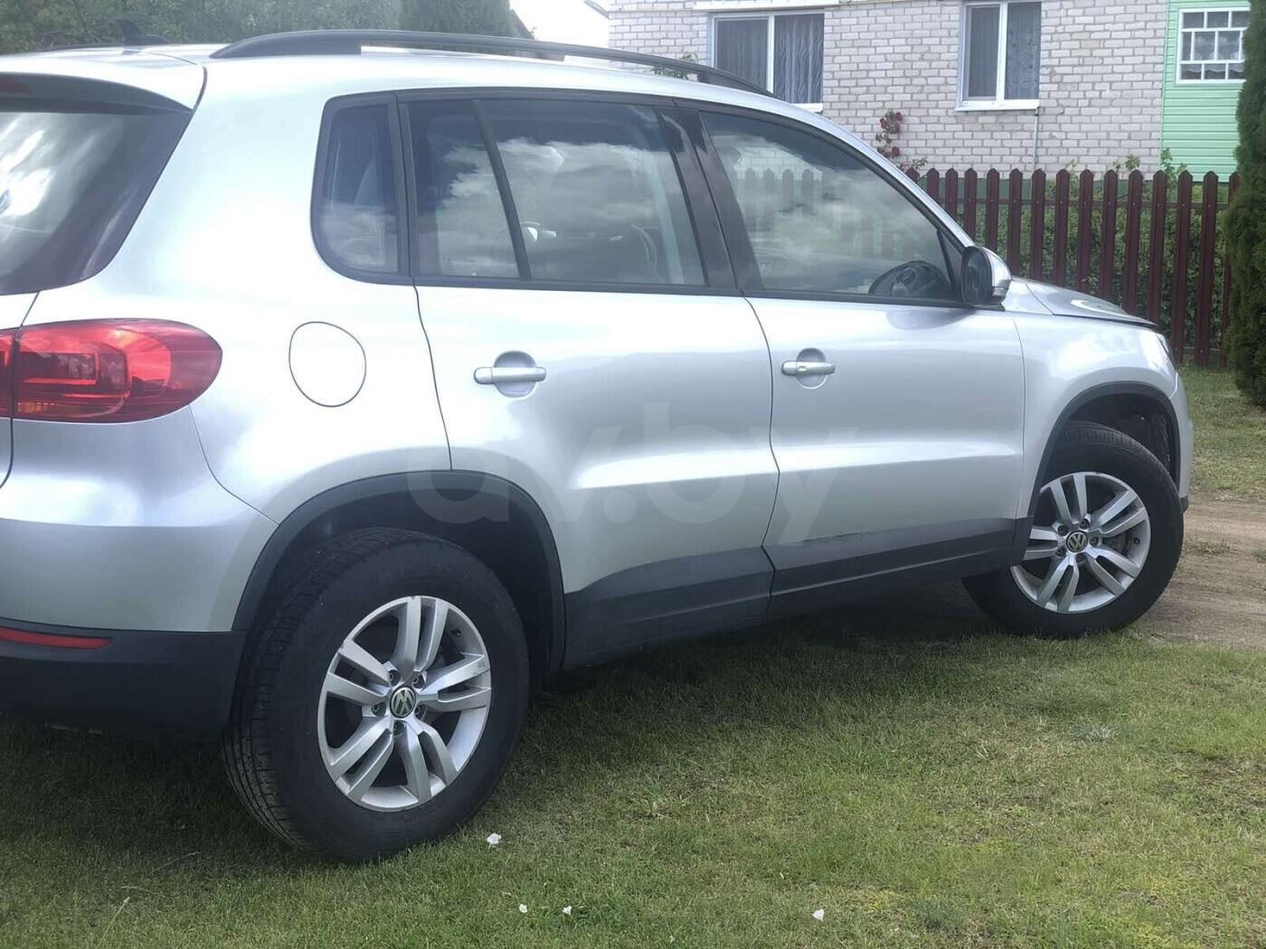Tiguan_2011-2018: (0, 40, 1192, 862)
